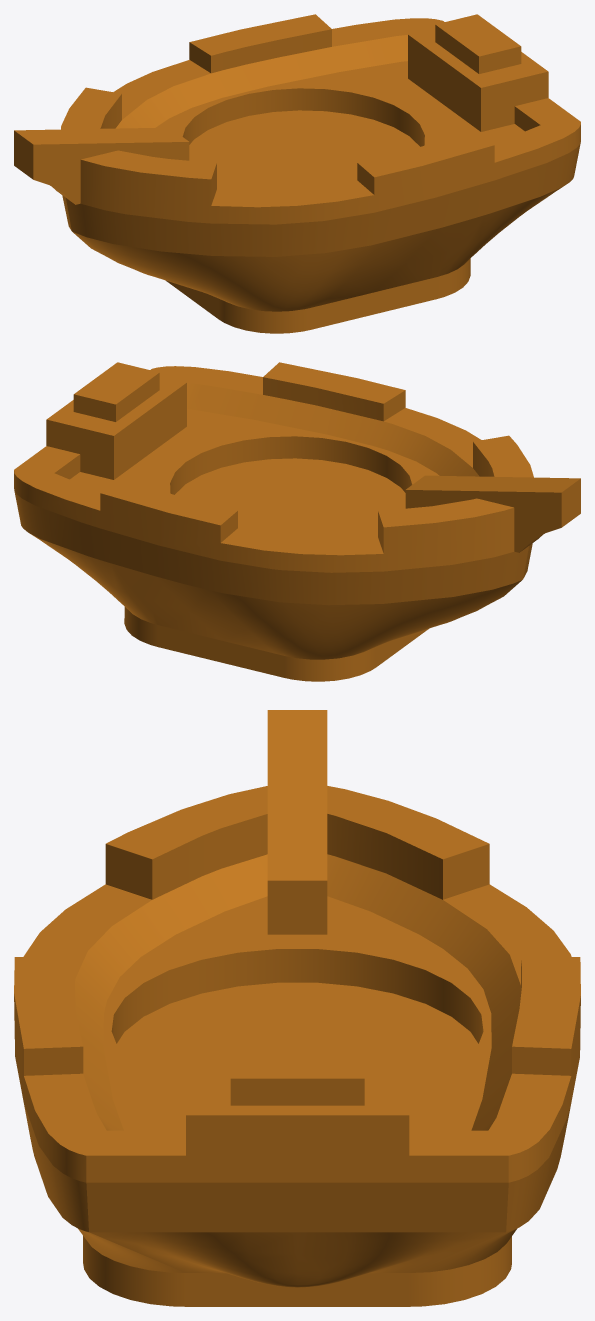
The model's file is ship.obj.
3 views of the same model, one above another, from view 1: azimuth 30°, elevation 25°; view 2: azimuth 150°, elevation 25°; view 3: azimuth 270°, elevation 25° (orthographic). The views are drawn at different scales.
Visible parts, largest first — view 1: mesh64, mesh0, mesh2, mesh46, mesh1, mesh57, mesh56, mesh52, mesh58, mesh42, mesh8, mesh13 (+26 smaller); view 2: mesh67, mesh0, mesh2, mesh29, mesh1, mesh40, mesh38, mesh35, mesh39, mesh25, mesh12, mesh13 (+27 smaller); view 3: mesh0, mesh2, mesh54, mesh20, mesh60, mesh1, mesh17, mesh21, mesh19, mesh61, mesh72, mesh51 (+30 smaller).
Part boxes in pixels (x1=…): mesh64: x1=73, y1=187, x2=561, y2=311; mesh0: x1=189, y1=110, x2=419, y2=189; mesh2: x1=155, y1=61, x2=524, y2=190; mesh46: x1=80, y1=160, x2=211, y2=223; mesh1: x1=182, y1=88, x2=424, y2=146; mesh57: x1=211, y1=213, x2=374, y2=256; mesh56: x1=66, y1=198, x2=212, y2=255; mesh52: x1=374, y1=145, x2=494, y2=212; mesh58: x1=371, y1=180, x2=494, y2=245; mesh42: x1=33, y1=142, x2=189, y2=204; mesh8: x1=211, y1=47, x2=339, y2=97; mesh13: x1=408, y1=35, x2=480, y2=131; mesh67: x1=29, y1=533, x2=521, y2=659; mesh0: x1=175, y1=458, x2=405, y2=537; mesh2: x1=70, y1=409, x2=439, y2=538; mesh29: x1=383, y1=508, x2=514, y2=571; mesh1: x1=170, y1=436, x2=412, y2=494; mesh40: x1=220, y1=561, x2=383, y2=605; mesh38: x1=382, y1=546, x2=528, y2=603; mesh35: x1=100, y1=493, x2=220, y2=560; mesh39: x1=100, y1=528, x2=223, y2=593; mesh25: x1=405, y1=490, x2=561, y2=552; mesh12: x1=255, y1=395, x2=383, y2=445; mesh13: x1=114, y1=383, x2=186, y2=479; mesh0: x1=116, y1=982, x2=478, y2=1089; mesh2: x1=103, y1=896, x2=491, y2=1130; mesh54: x1=86, y1=1182, x2=508, y2=1232; mesh20: x1=86, y1=1115, x2=508, y2=1182; mesh60: x1=90, y1=1232, x2=505, y2=1287; mesh1: x1=111, y1=949, x2=483, y2=1043; mesh17: x1=267, y1=710, x2=327, y2=880; mesh21: x1=409, y1=1073, x2=571, y2=1155; mesh19: x1=24, y1=1073, x2=185, y2=1155; mesh61: x1=186, y1=1273, x2=409, y2=1306; mesh72: x1=186, y1=1065, x2=409, y2=1115; mesh51: x1=14, y1=957, x2=82, y2=1048.
Bounding box in the file's own units: 0.0368 × 0.014 × 0.0242.
